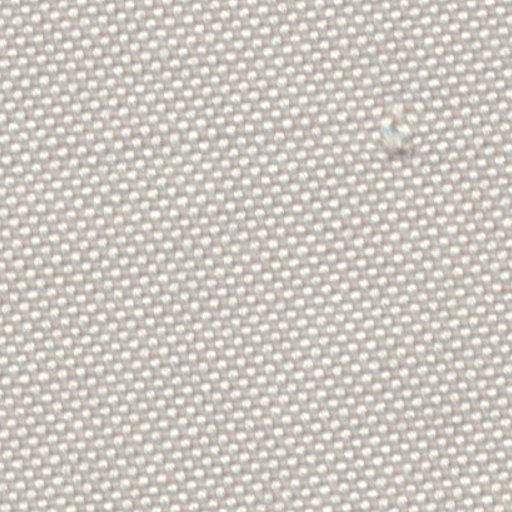PoDong: (364, 84, 428, 162)
